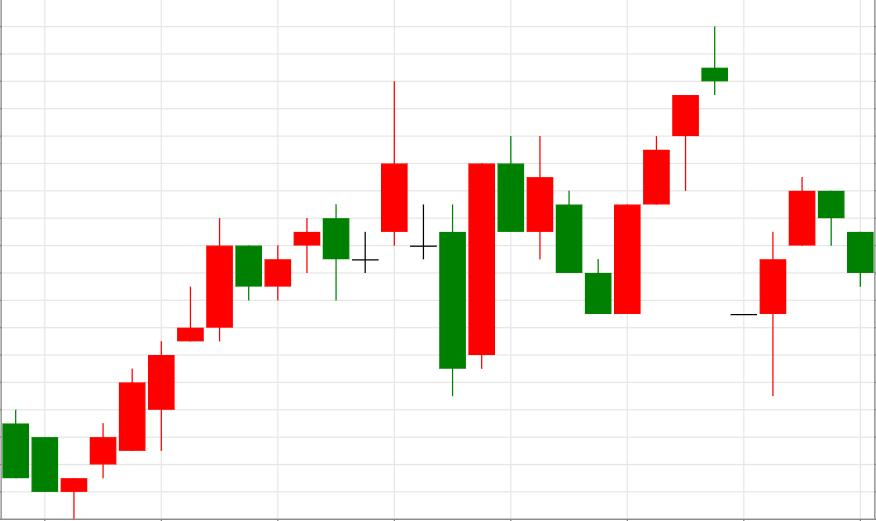three_white_soldiers_rise: (498, 95, 698, 315)
